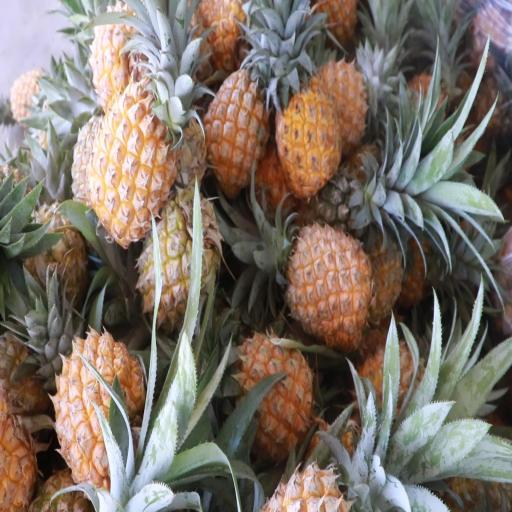------------------------------: (144, 202, 222, 330)
Pineapple - v8 v1: (60, 331, 145, 486), (93, 92, 177, 237), (287, 224, 372, 338), (229, 334, 311, 444), (202, 66, 272, 188), (275, 84, 341, 194), (92, 8, 155, 98)
